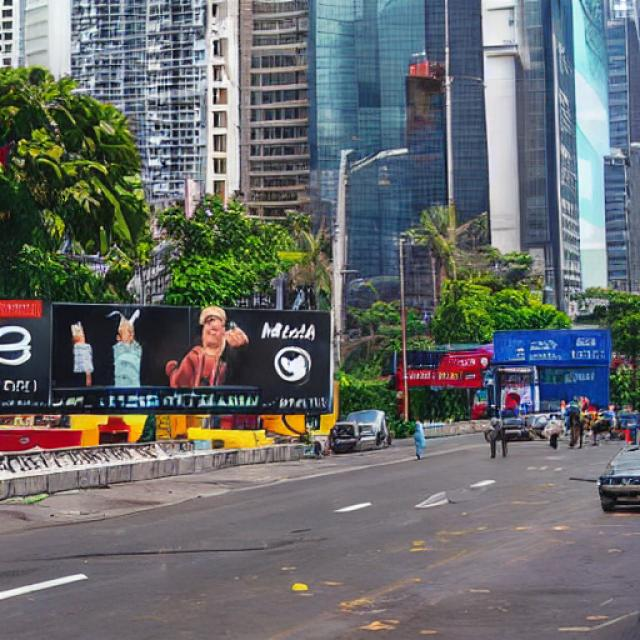Billboard: (0, 299, 332, 415)
